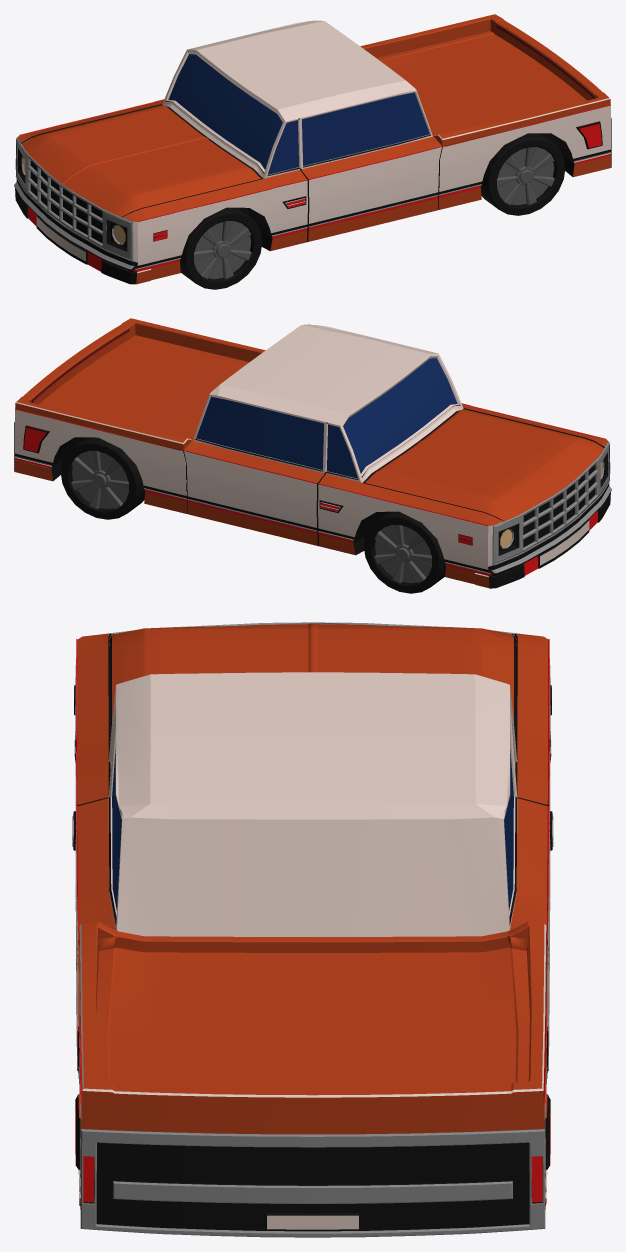
Rendered from picap.FBX.
The picture shows the model from 3 angles, top to bottom: view 1: azimuth 30°, elevation 25°; view 2: azimuth 150°, elevation 25°; view 3: azimuth 270°, elevation 25°; orthographic projection. The views are drawn at different scales.
Visible parts, largest first — view 1: Box007; view 2: Box007; view 3: Box007.
Part boxes in pixels (<box>): Box007: <box>14,14,611,289</box>; Box007: <box>14,318,611,593</box>; Box007: <box>72,622,553,1237</box>.
Bounding box in the file's own units: 78.01 × 32.31 × 22.1.
